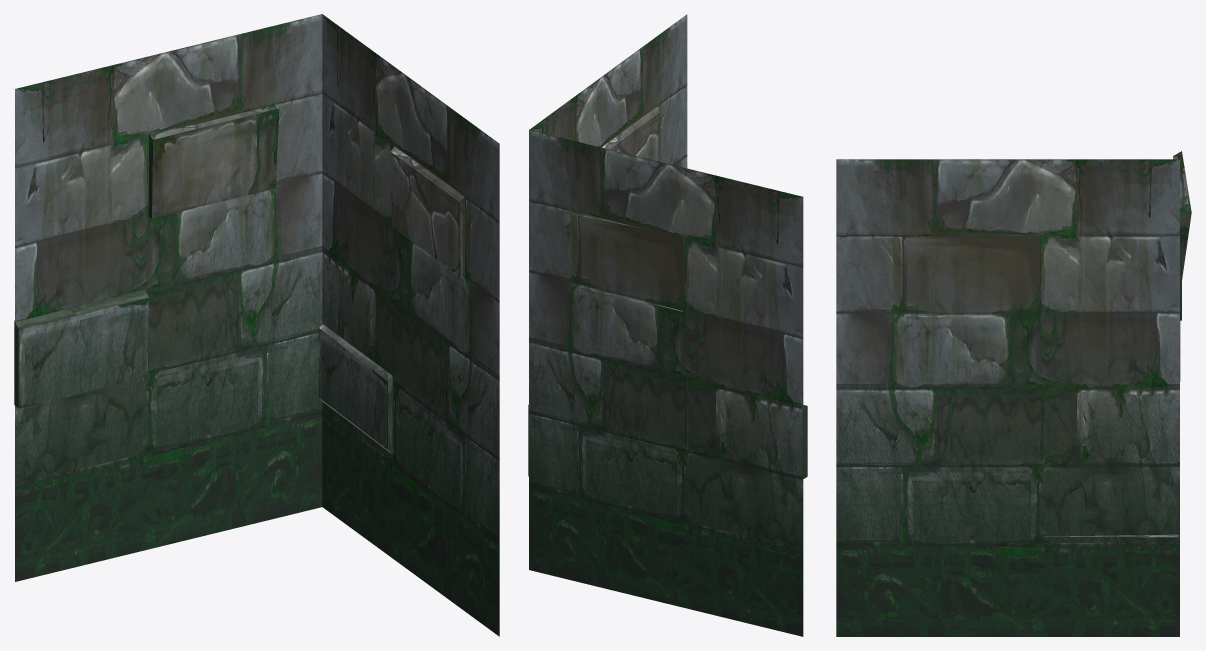
File: stemple_wall_concave_03.fbx
The picture shows the model from 3 angles, left to right: view 1: azimuth 30°, elevation 25°; view 2: azimuth 150°, elevation 25°; view 3: azimuth 270°, elevation 25°; orthographic projection. The views are drawn at different scales.
Parts seen in each view (by area): view 1: stemple_wall_concave_03-0; view 2: stemple_wall_concave_03-0; view 3: stemple_wall_concave_03-0.
Boxes of the visible parts, x1,y1,x2,y2 form: stemple_wall_concave_03-0: (14,14,499,636); stemple_wall_concave_03-0: (528,14,807,636); stemple_wall_concave_03-0: (836,151,1191,636).
Bounding box in the file's own units: 3.61 × 5.5 × 3.71.
